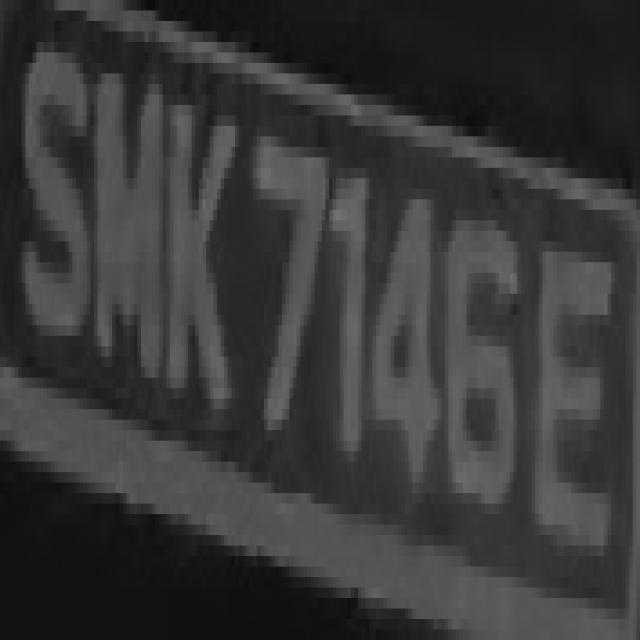1: (332, 115, 368, 535)
4: (365, 147, 434, 524)
6: (434, 178, 521, 535)
7: (250, 74, 329, 482)
E: (535, 210, 622, 598)
K: (152, 53, 239, 430)
M: (83, 52, 166, 398)
S: (14, 32, 98, 367)
